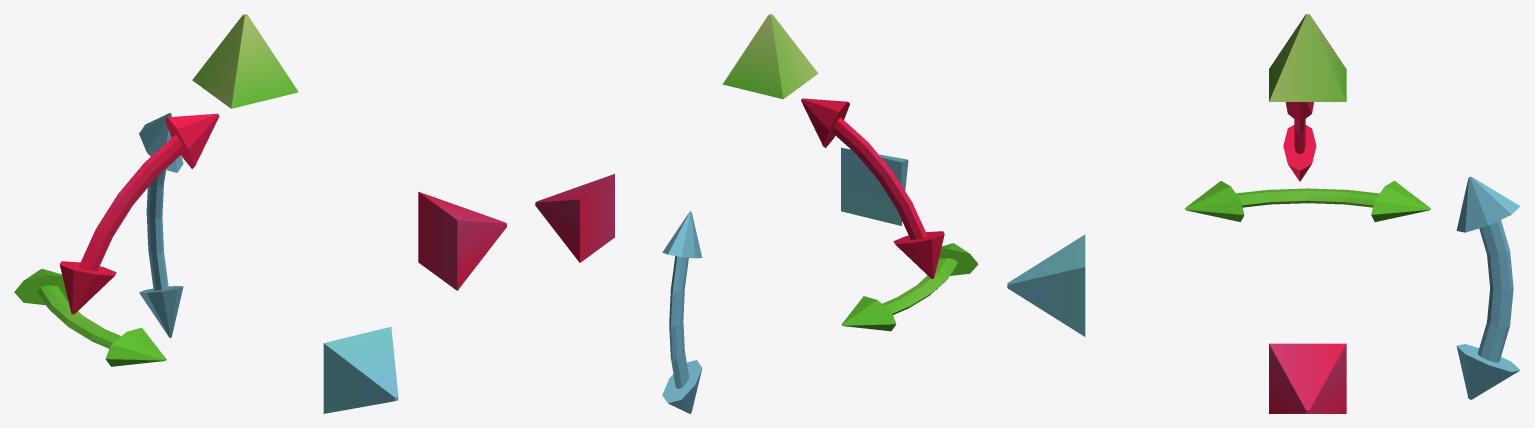
The model's file is arrows_new2.fbx.
3 views of the same model, side by side, from view 1: azimuth 30°, elevation 25°; view 2: azimuth 150°, elevation 25°; view 3: azimuth 270°, elevation 25° (orthographic). The views are drawn at different scales.
Visible parts, largest first — view 1: R-X-axis, Y-axis, X-axis, Z-axis, R-Y-axis, R-Z-axis; view 2: R-X-axis, Y-axis, X-axis, R-Z-axis, R-Y-axis, Z-axis; view 3: R-Z-axis, X-axis, R-Y-axis, Y-axis, Z-axis, R-X-axis.
Part boxes in pixels (x1,y1,x2,y2): R-X-axis: (59,113,219,314); Y-axis: (192,14,298,108); X-axis: (418,191,506,290); Z-axis: (323,327,398,413); R-Y-axis: (14,269,166,366); R-Z-axis: (139,113,183,337); R-X-axis: (801,98,944,278); Y-axis: (722,14,818,99); X-axis: (535,174,614,262); R-Z-axis: (662,211,702,413); R-Y-axis: (841,243,978,331); Z-axis: (841,147,908,225); R-Z-axis: (1456,176,1520,399); X-axis: (1269,343,1346,413); R-Y-axis: (1185,180,1430,221); Y-axis: (1269,14,1346,101); Z-axis: (1007,234,1085,336); R-X-axis: (1283,102,1316,181).
Size of the model in its own units: 234 by 191 by 233.
